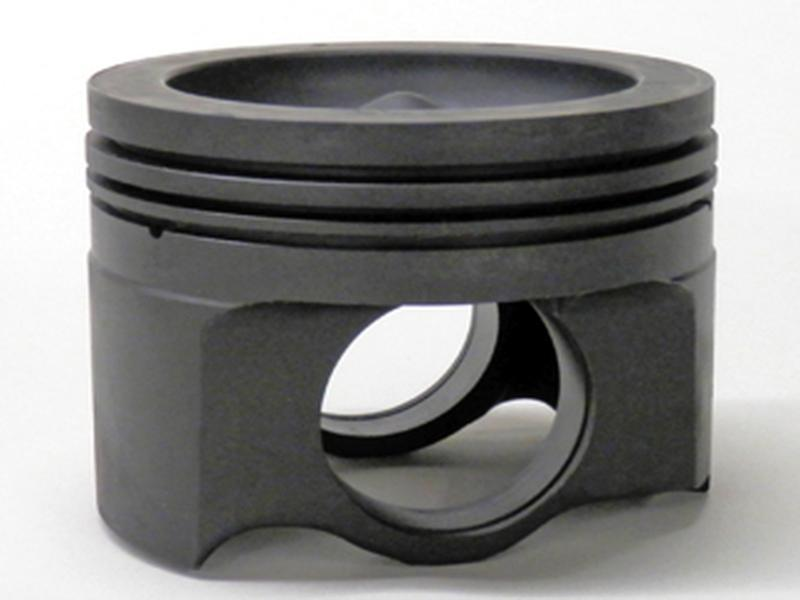piston: (65, 19, 744, 590)
